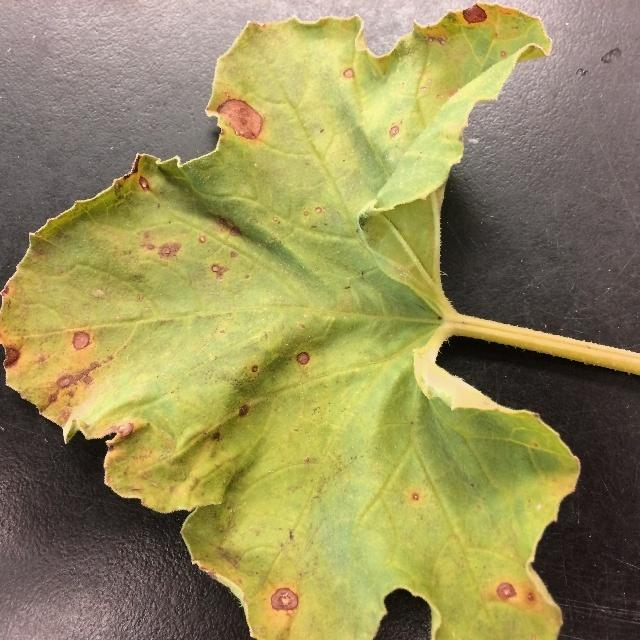leaf_spot: (17, 87, 328, 426)
